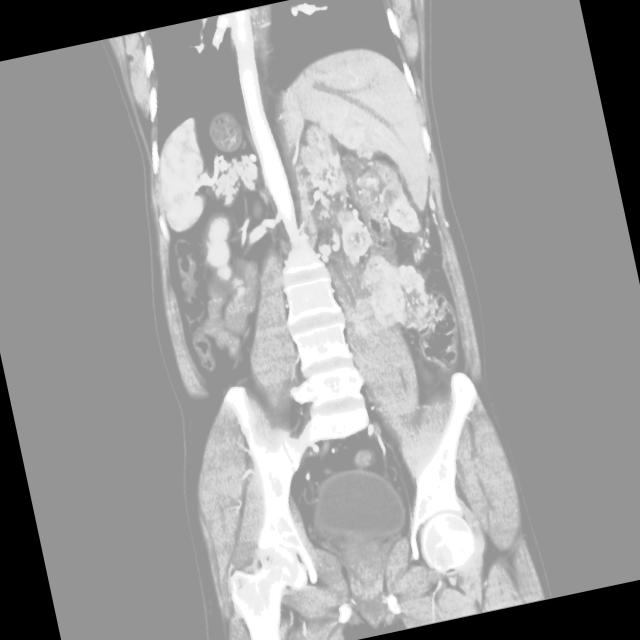TUMOR: (90, 187, 518, 503)
